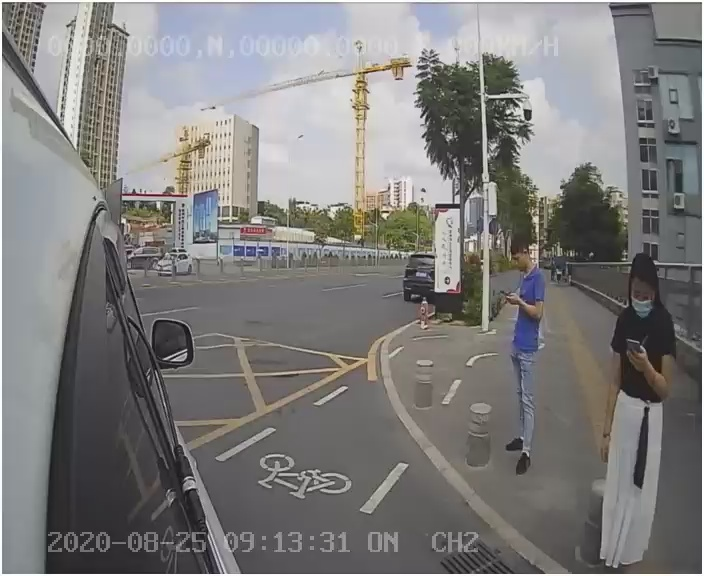person: (494, 238, 561, 482)
